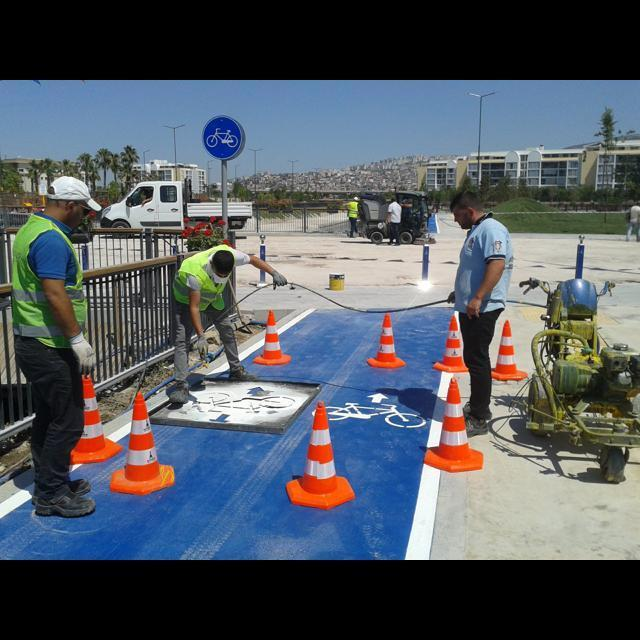safety_vest: (8, 210, 86, 352), (172, 241, 236, 316)
